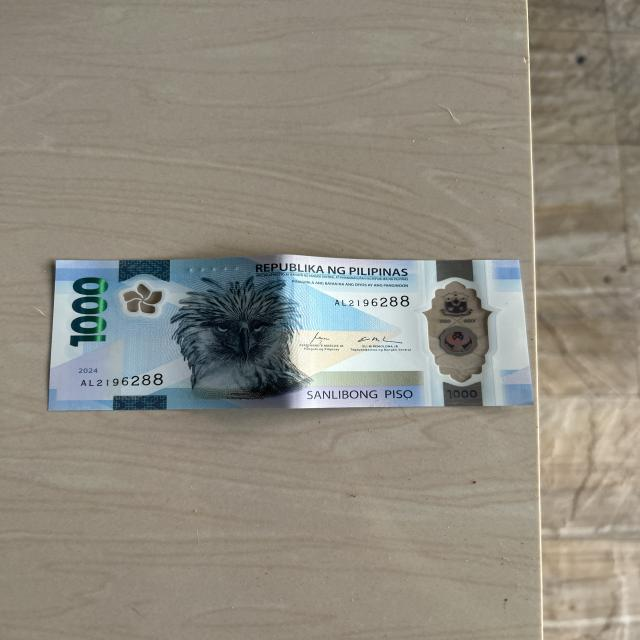clear_window: (422, 277, 498, 390)
eagle: (170, 278, 308, 395)
sampaguita: (118, 282, 167, 317)
